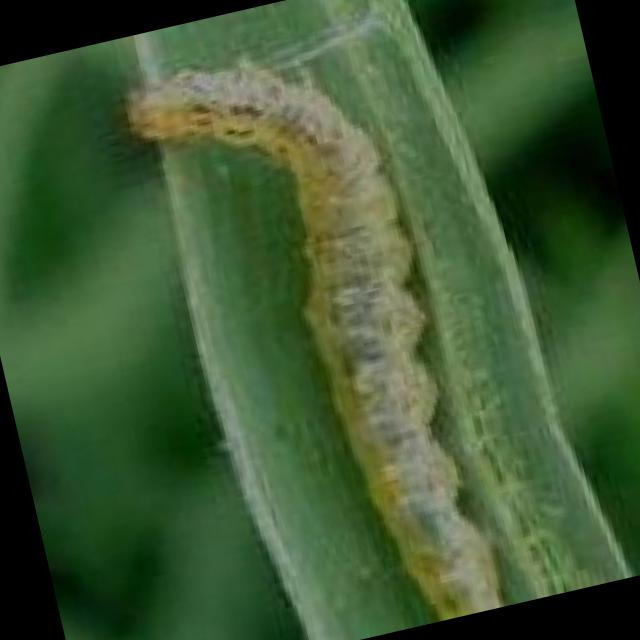leaf-folder: (86, 12, 522, 640)
